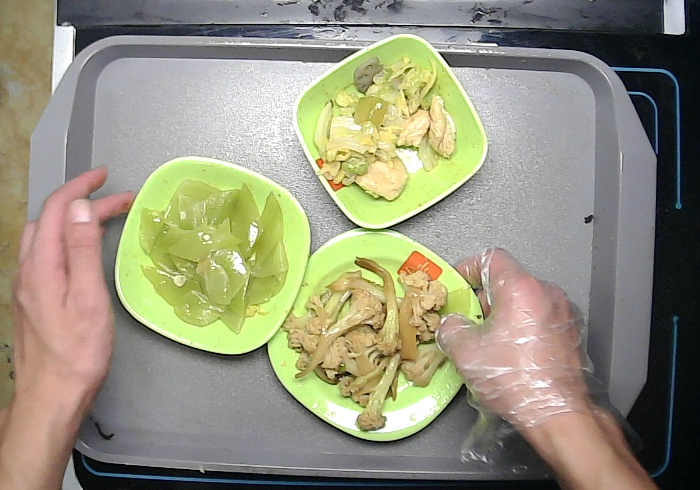SHKJ-Lv_Se_Cai_Die: (114, 153, 311, 357)
SHKJ-Lv_Se_Si_Fang_Cai_Die: (267, 227, 486, 443)
SHKJ-Lv_Se_Xiao_Fang_Die: (292, 33, 488, 230)
